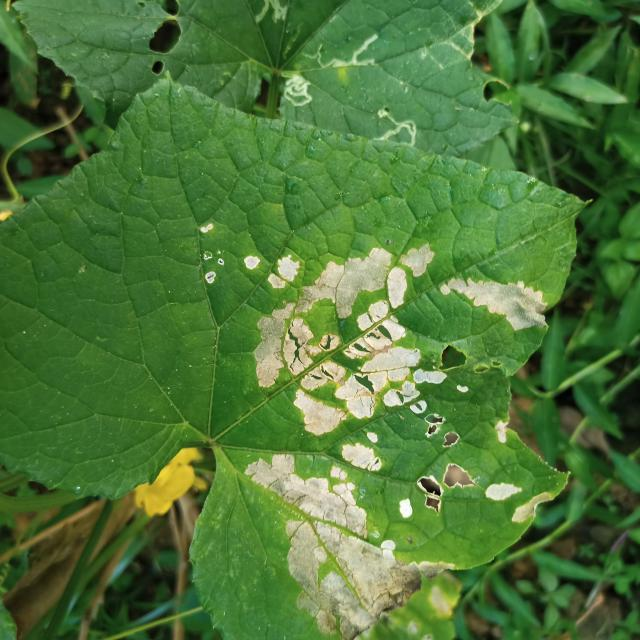disease_cucumber: (236, 437, 553, 640), (242, 242, 550, 439), (188, 214, 234, 292)
